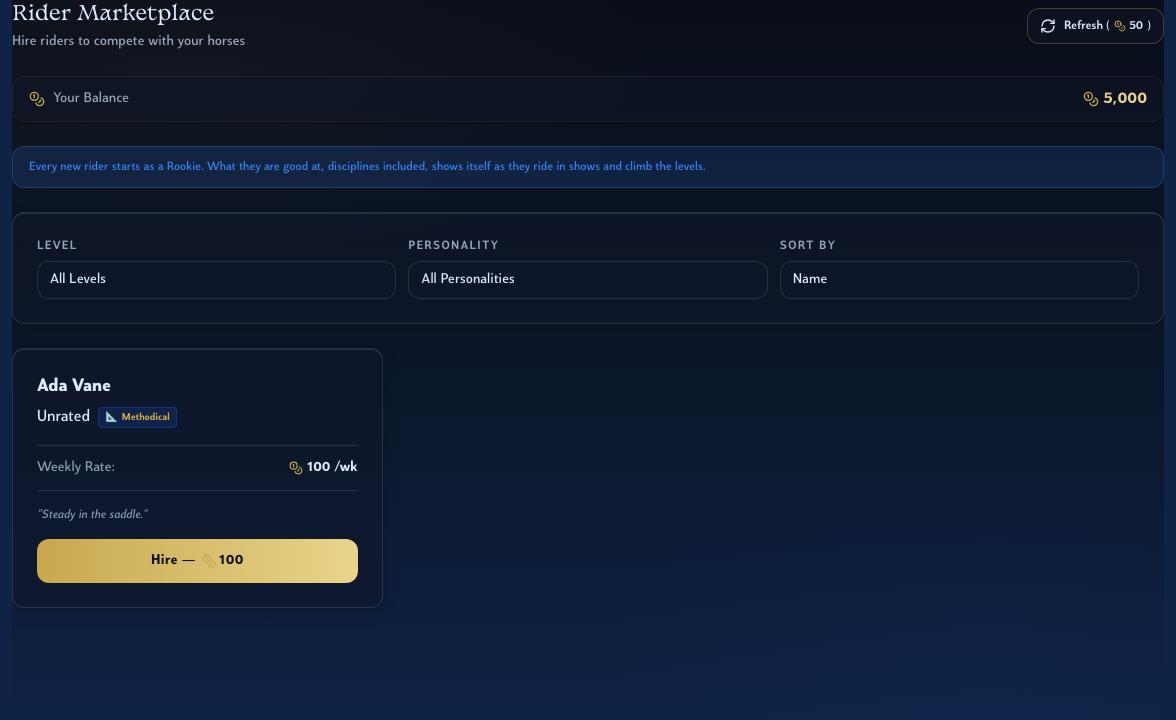
Test case: RiderList — hire feedback (Equoria-ln49p) › a refused hire says so on the clicked card, with no server text
The width and height of the screenshot is (1176, 720).
Click the button with test id "hire-button-mk-1" at (197,561), box x1=37 y1=539 x2=358 y2=583
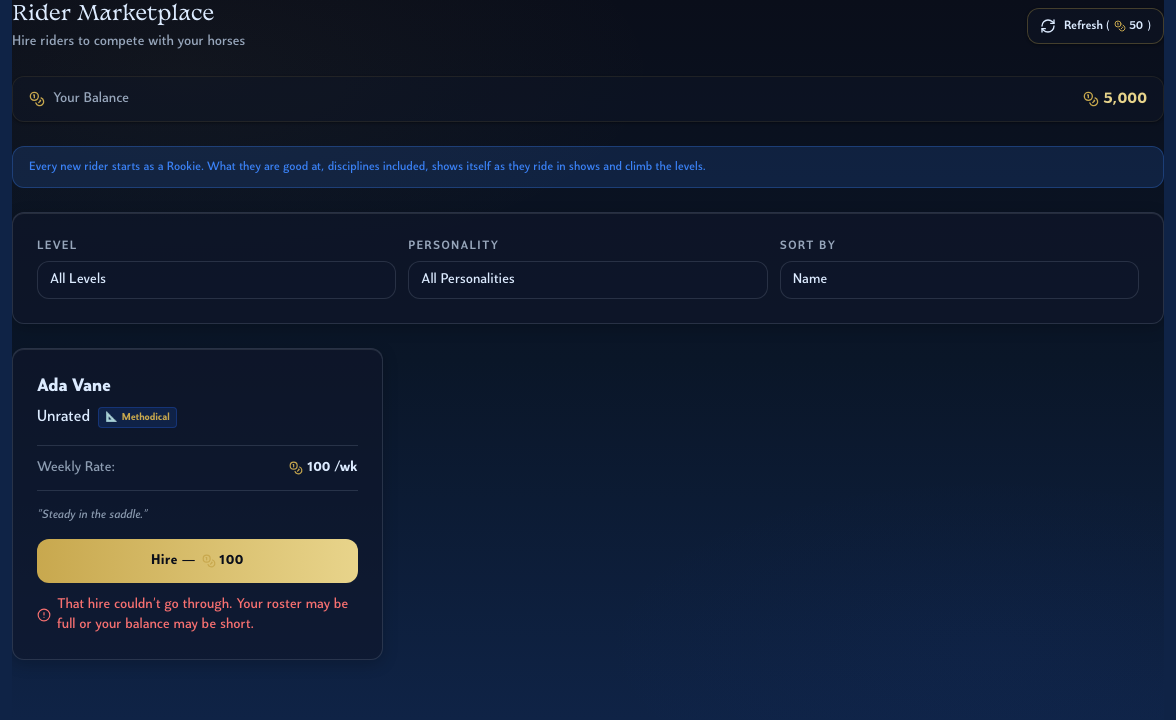
Expected: the message shows "roster", x1=57 y1=597 x2=348 y2=632
